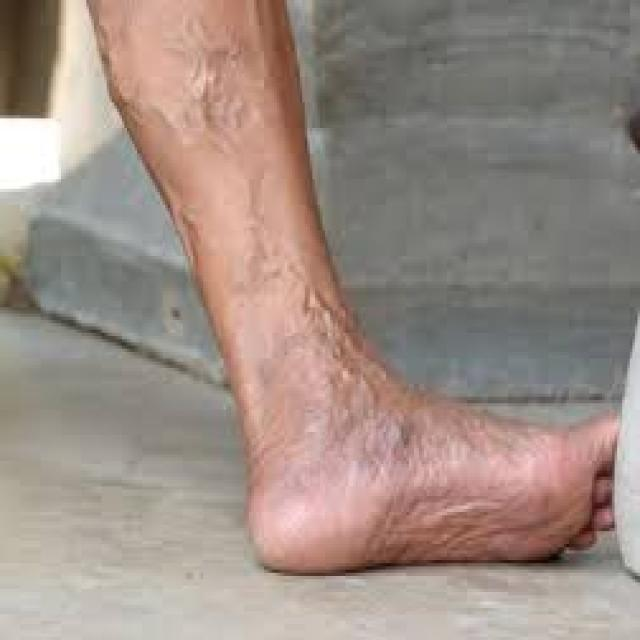Varicose: (132, 35, 577, 568)
